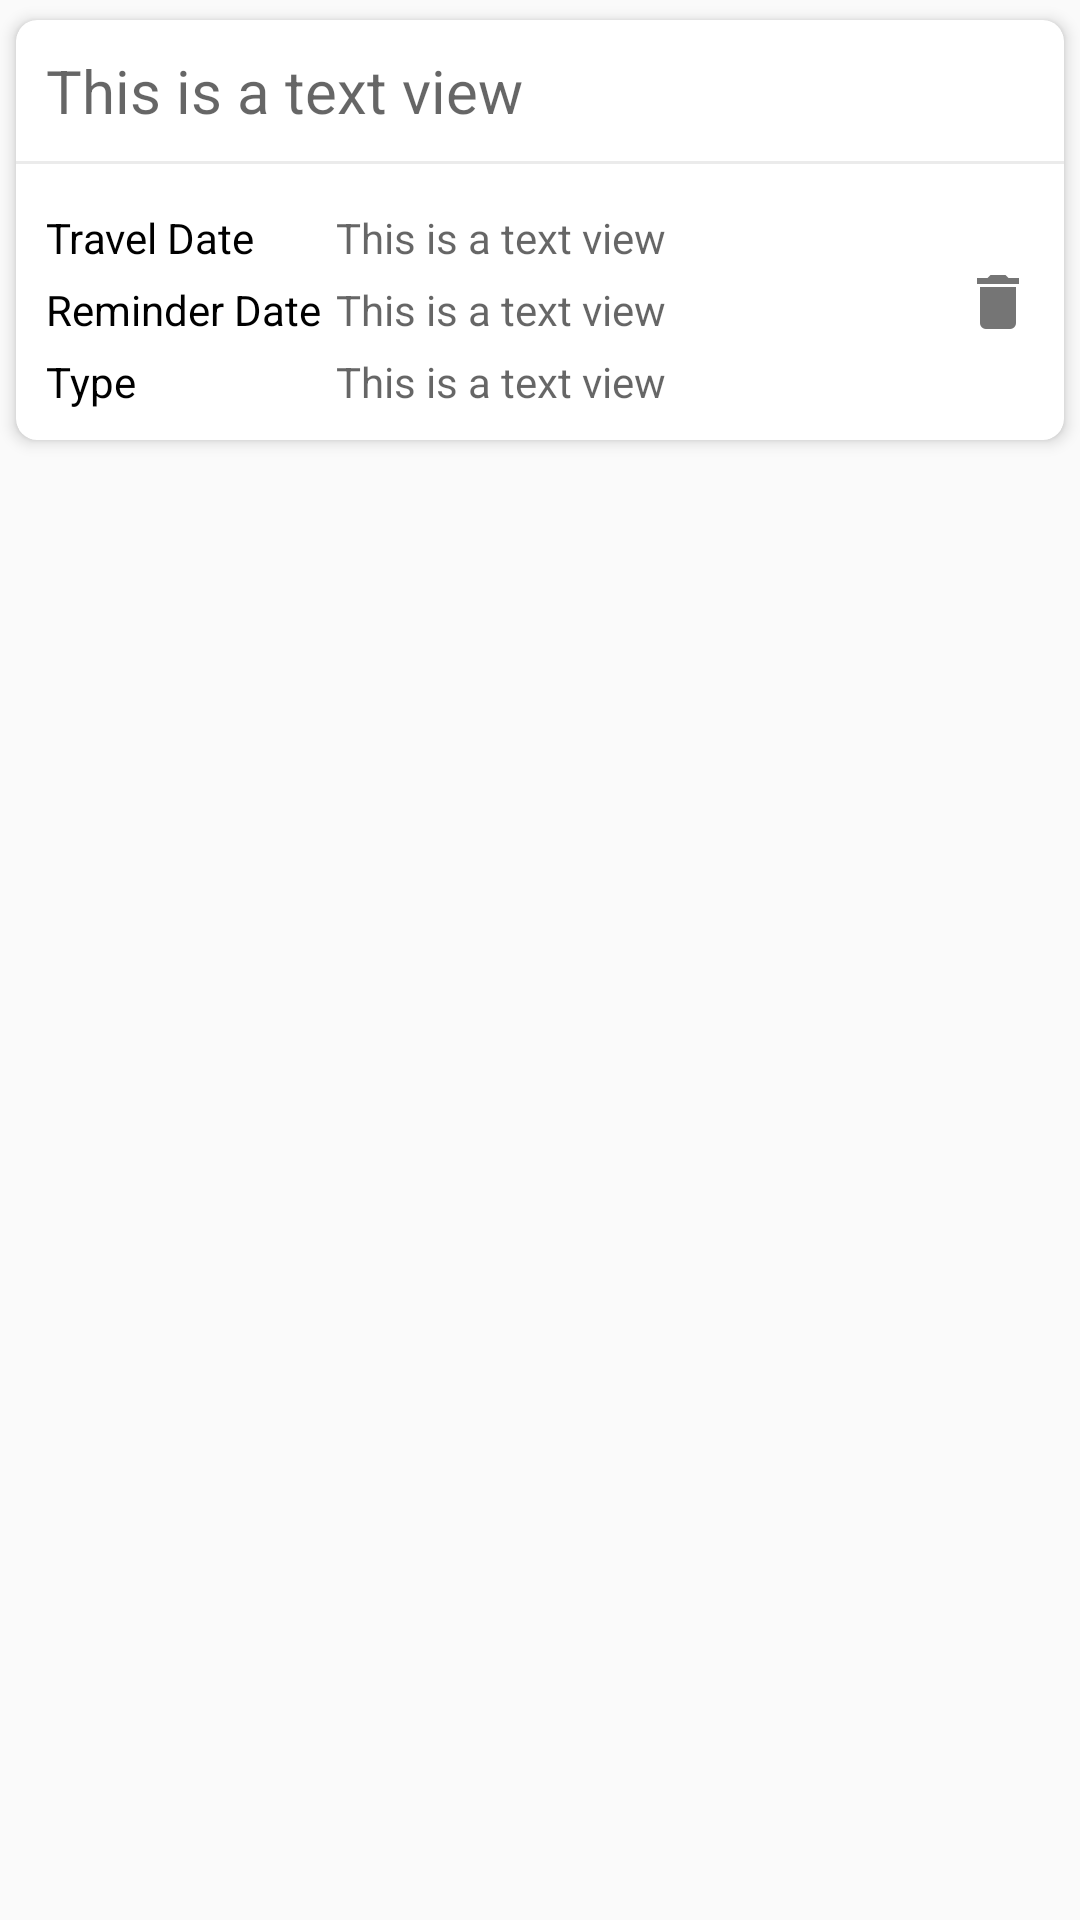

Where icons sit on this 1080px×1920px app screen, as (x1, y1, x2, y2):
delete: (977, 275, 1019, 329)
